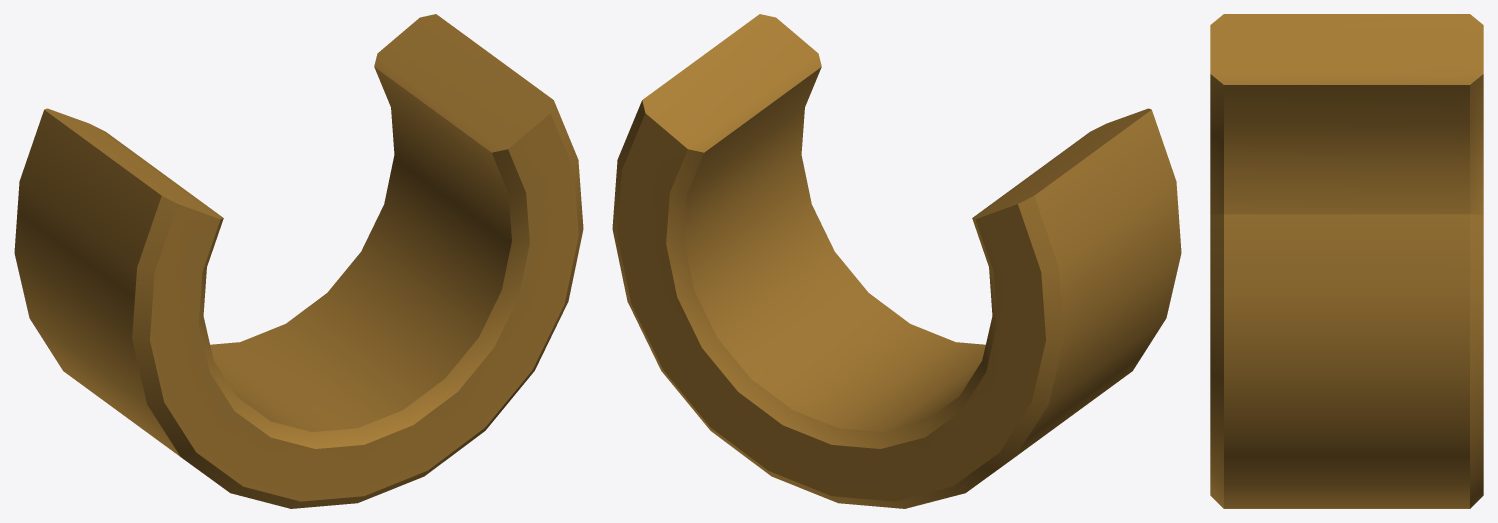
The model's file is bush_split_8.glb.
3 renders of one model, left to right at view 1: azimuth 30°, elevation 25°; view 2: azimuth 150°, elevation 25°; view 3: azimuth 270°, elevation 25°, orthographic. The views are drawn at different scales.
Visible parts, largest first — view 1: Bush_Split8; view 2: Bush_Split8; view 3: Bush_Split8.
Part boxes in pixels (x1=…): Bush_Split8: x1=14, y1=14, x2=583, y2=508; Bush_Split8: x1=612, y1=14, x2=1181, y2=508; Bush_Split8: x1=1210, y1=14, x2=1483, y2=508.
Size of the model in its own units: 0.012 by 0.009 by 0.006.
